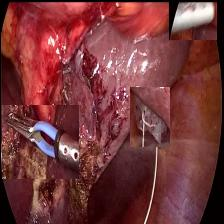Irrigator: (1, 104, 78, 178), (168, 0, 216, 39)
Specimen Bag: (129, 86, 169, 146)
